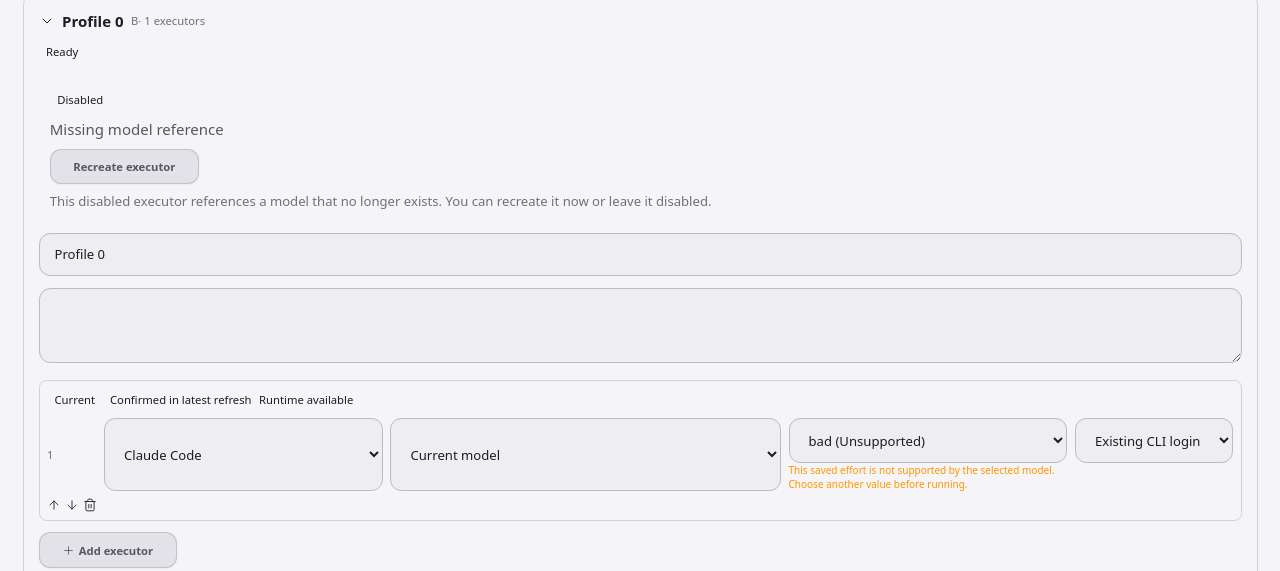
Test case: execution profile repair routing and attention › shows disabled orphan recreation without attention and allows ordinary profile and healthy executor saves
Check: the text "Disabled" is shown, box [57,91,103,106]
Check: the text "Missing model reference" is shown, box [50,119,224,139]
Replace the text in the field named "Name" with "Renamed" at (640,255), box [38,233,1242,276]
(page scrolled)
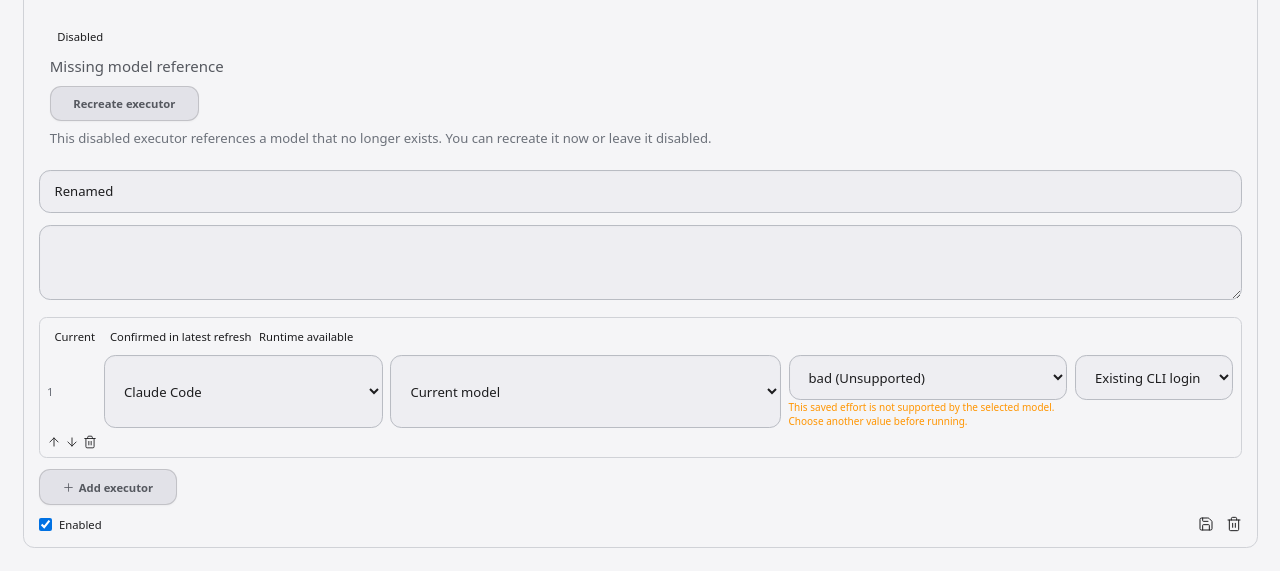
Click the button titled "Save" at (1206,524), box [1198,516,1214,532]
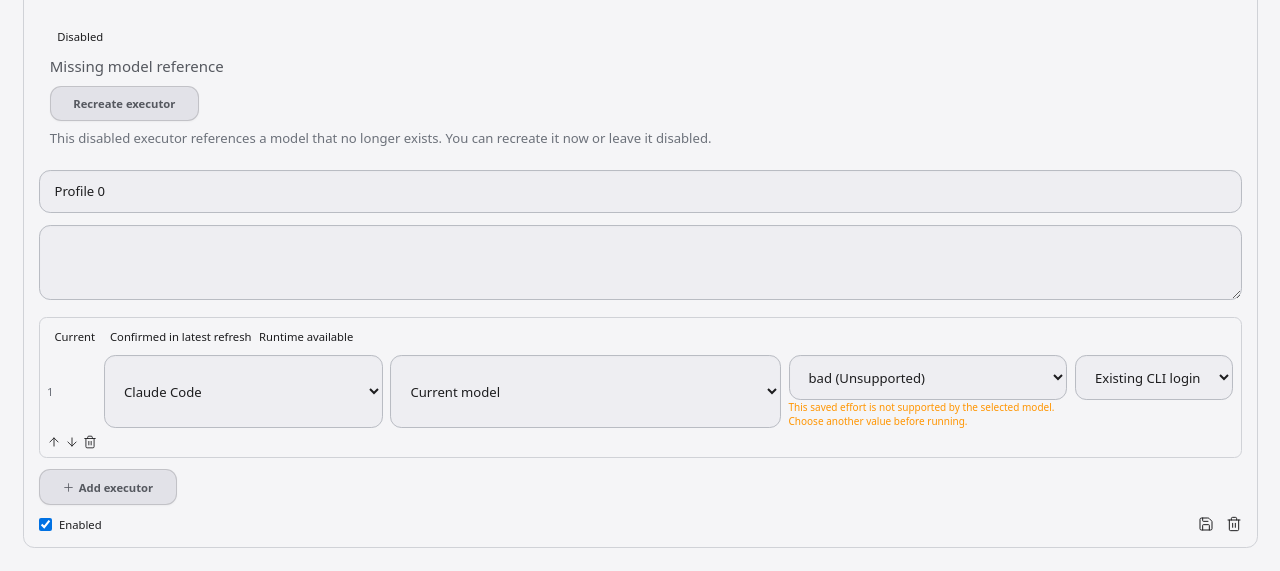
Select "high" in the dropdown named "Effort 1" at (928,378), box [788,355,1068,400]
(page scrolled)
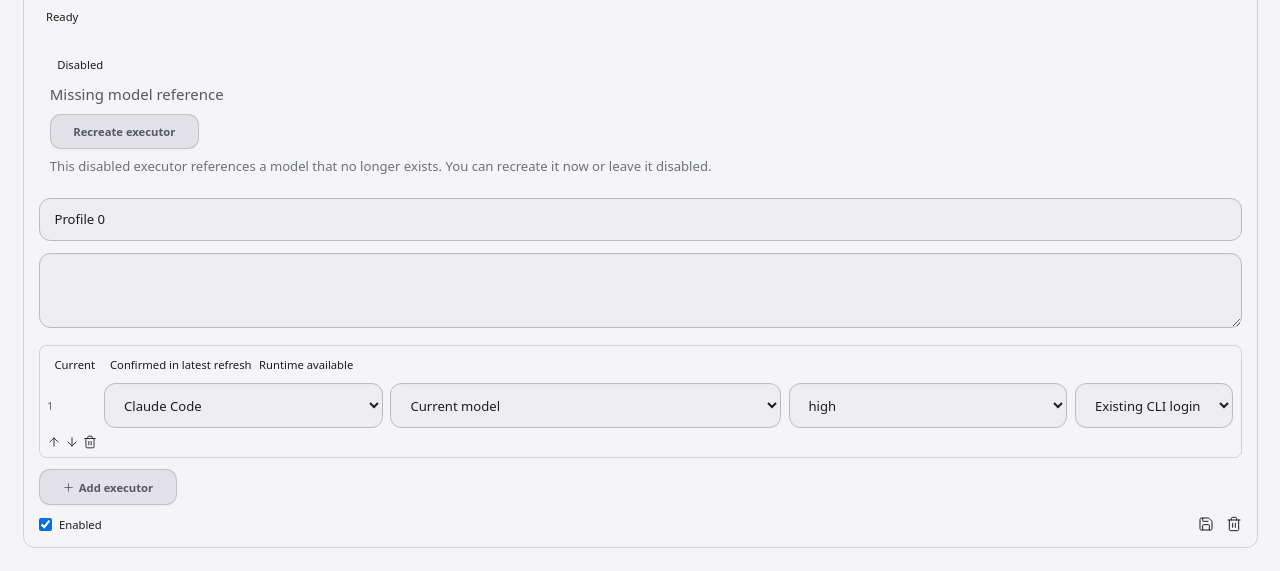
Click the button titled "Save" at (1206,524), box [1198,516,1214,532]
(page scrolled)
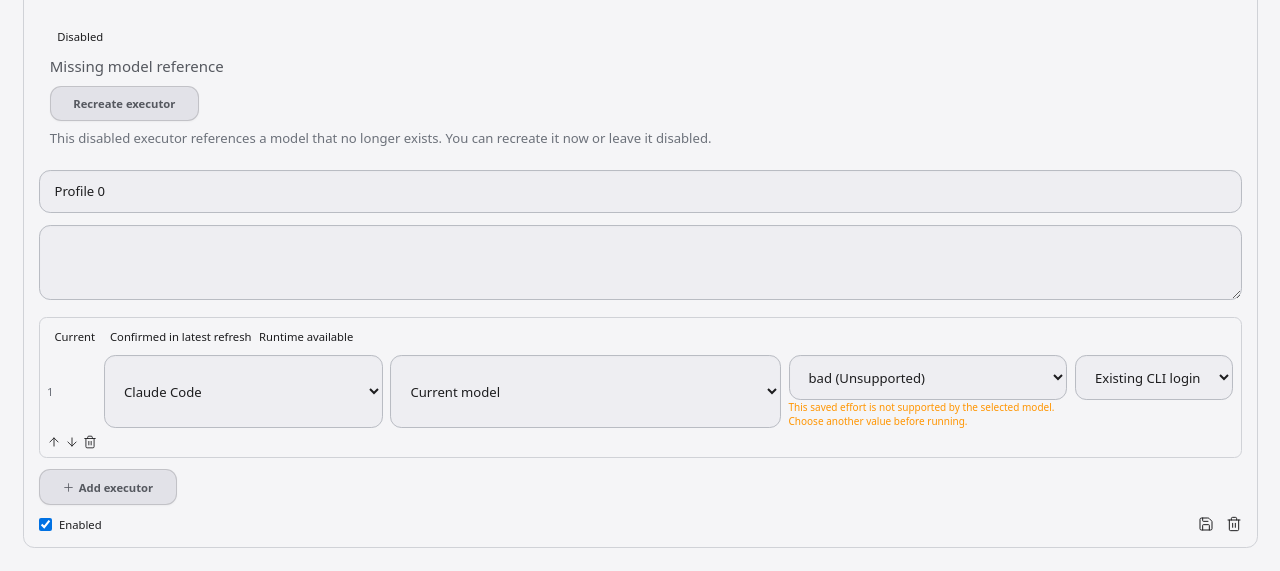
Click the button "Recreate executor" at (124,104), box [50,86,199,121]
(page scrolled)
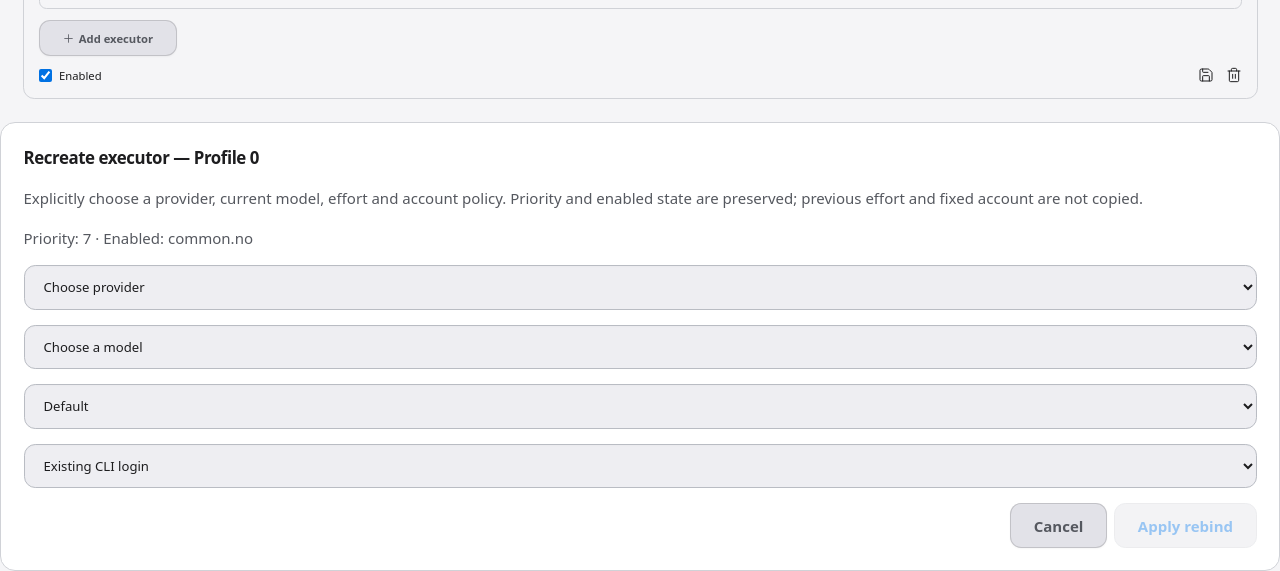
Check: the dropdown named "Agent" shows "Choose provider", box [24,265,1256,310]
Check: the dropdown named "Account" below "common.no" shows "Existing CLI login", box [24,444,1256,488]
Check: the dropdown named "Effort" shows "Default", box [24,384,1256,429]
